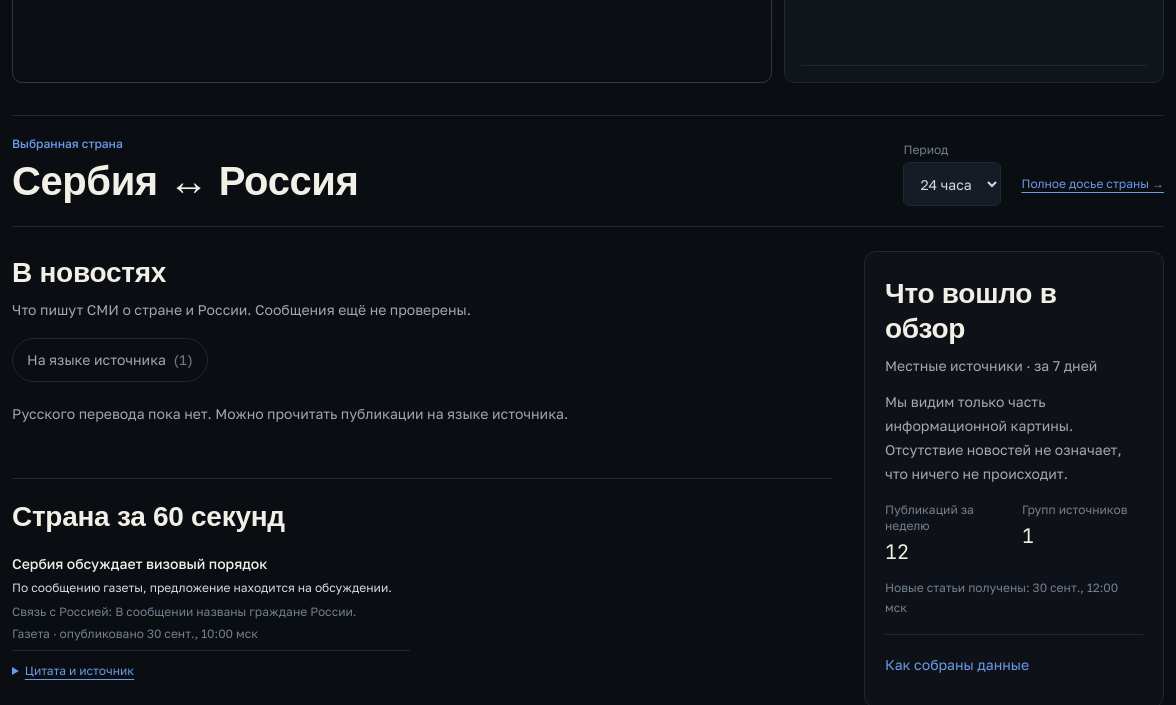
it: DecisionWorkspace › shows pending and unavailable discovery honestly and never links unsafe lead URLs
The width and height of the screenshot is (1176, 705).
(page scrolled)
Expected: the text "Русского перевода пока нет. Можно прочитать публикации на языке источника." is shown, [12, 405, 568, 422]
Click the button "На языке источника (1)" at (110, 360), box [12, 338, 208, 382]
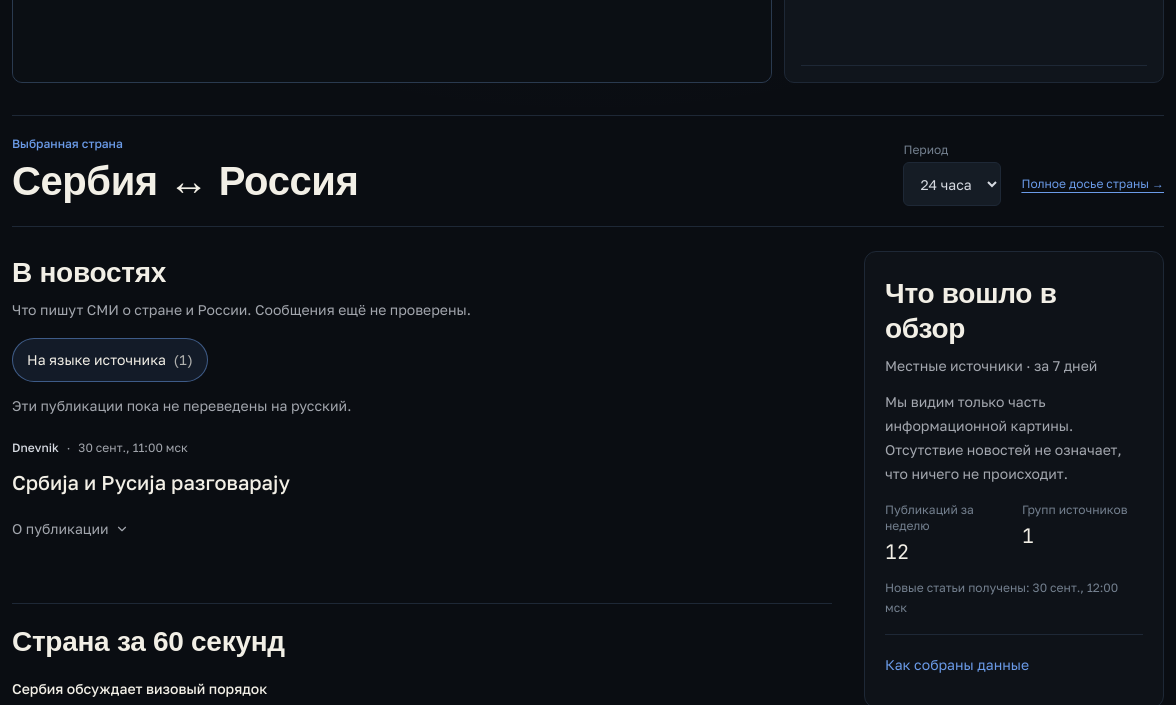
Now the heading "Србија и Русија разговарају" is shown, box [12, 470, 290, 494]
Click the heading "О публикации" at (70, 528), box [12, 520, 129, 536]
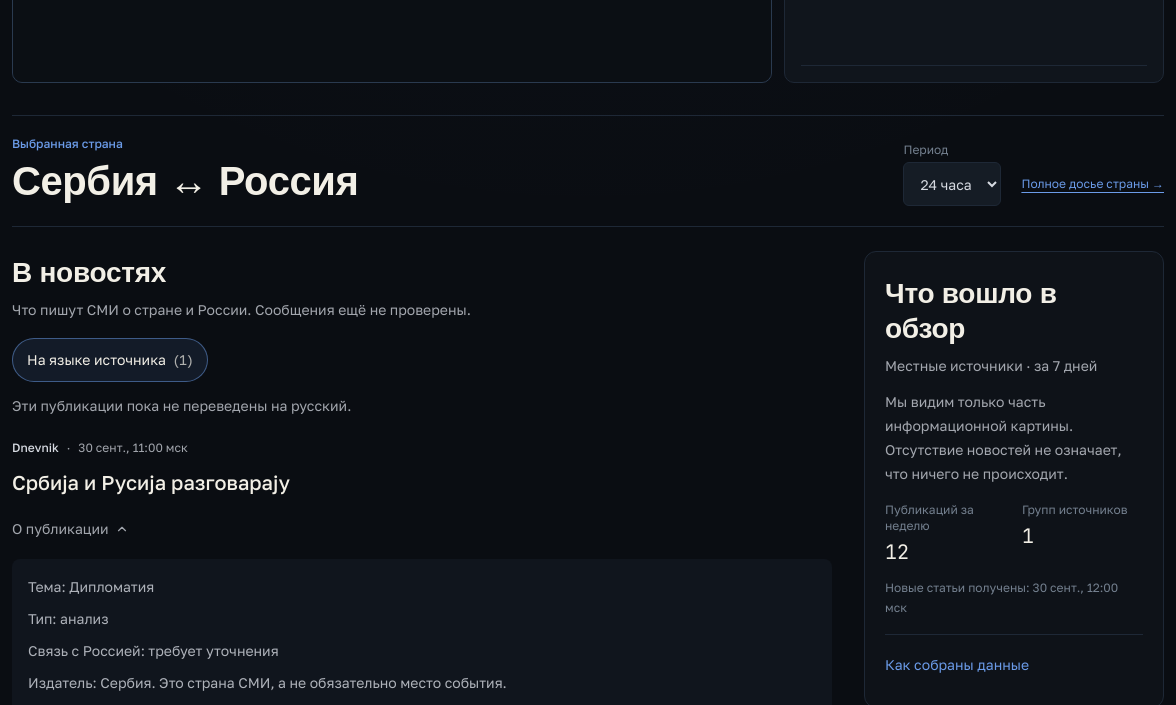
Select "7 суток" in the dropdown named "Период материалов" at (952, 184), box [903, 162, 1001, 206]
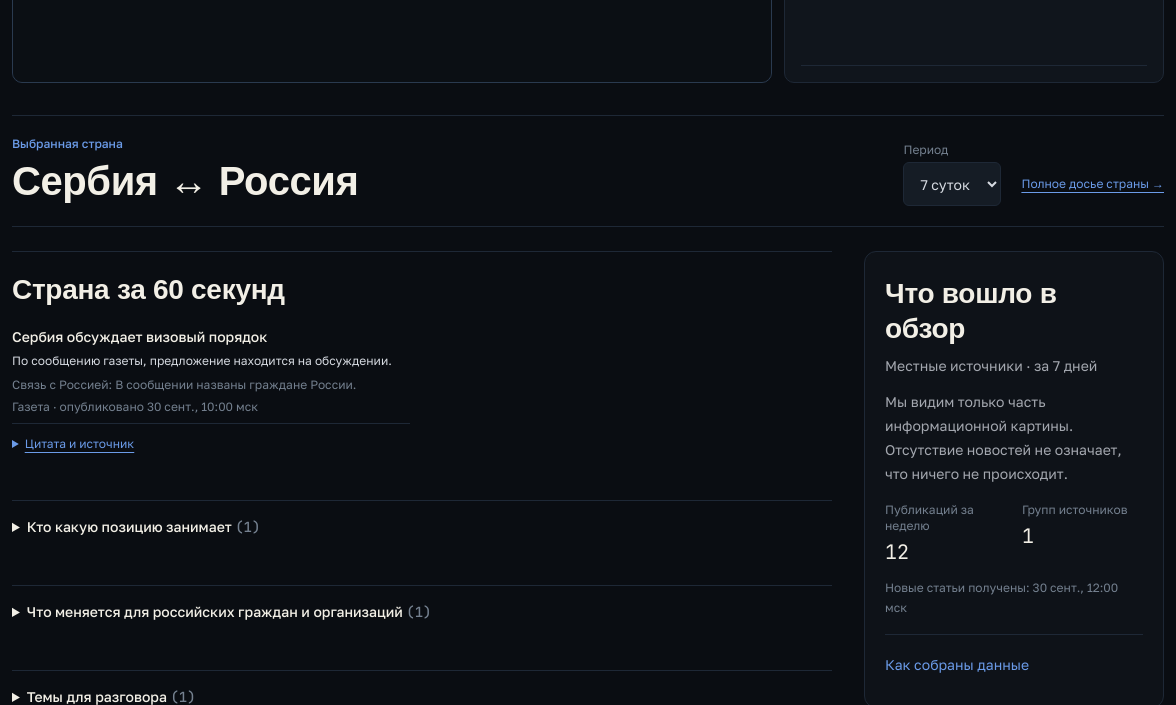
Now the heading "В новостях" is gone
